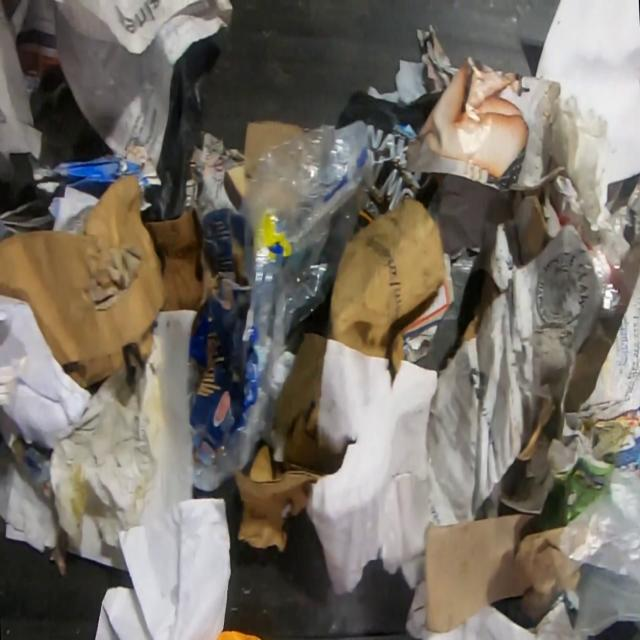cardboard: (0, 172, 170, 394), (232, 332, 344, 551), (329, 192, 446, 377), (190, 206, 268, 473), (424, 512, 581, 633), (30, 152, 150, 230), (141, 201, 200, 313), (402, 249, 456, 363), (244, 119, 309, 177), (510, 188, 547, 266)
soft_plastic: (193, 119, 386, 491), (335, 90, 448, 237), (554, 466, 640, 640), (584, 244, 624, 311), (186, 355, 204, 426), (626, 183, 640, 243)
